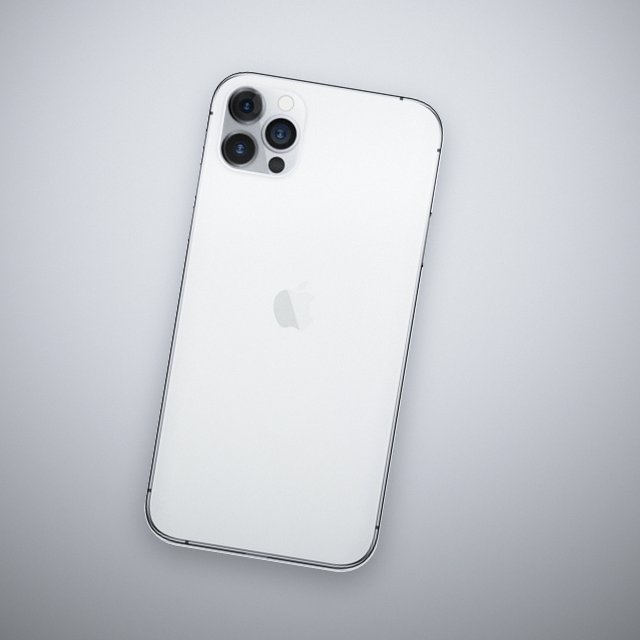iphone_12pro_silver: (121, 37, 492, 591), (209, 74, 323, 180)
